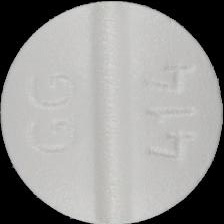67046-475: (0, 0, 224, 224)
